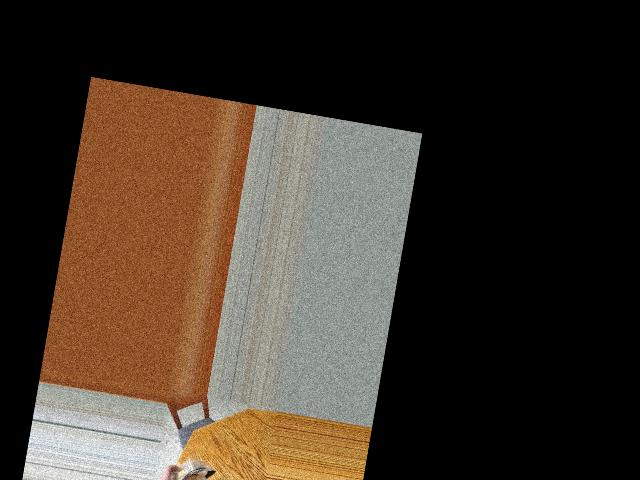cheese: (163, 446, 216, 480)
